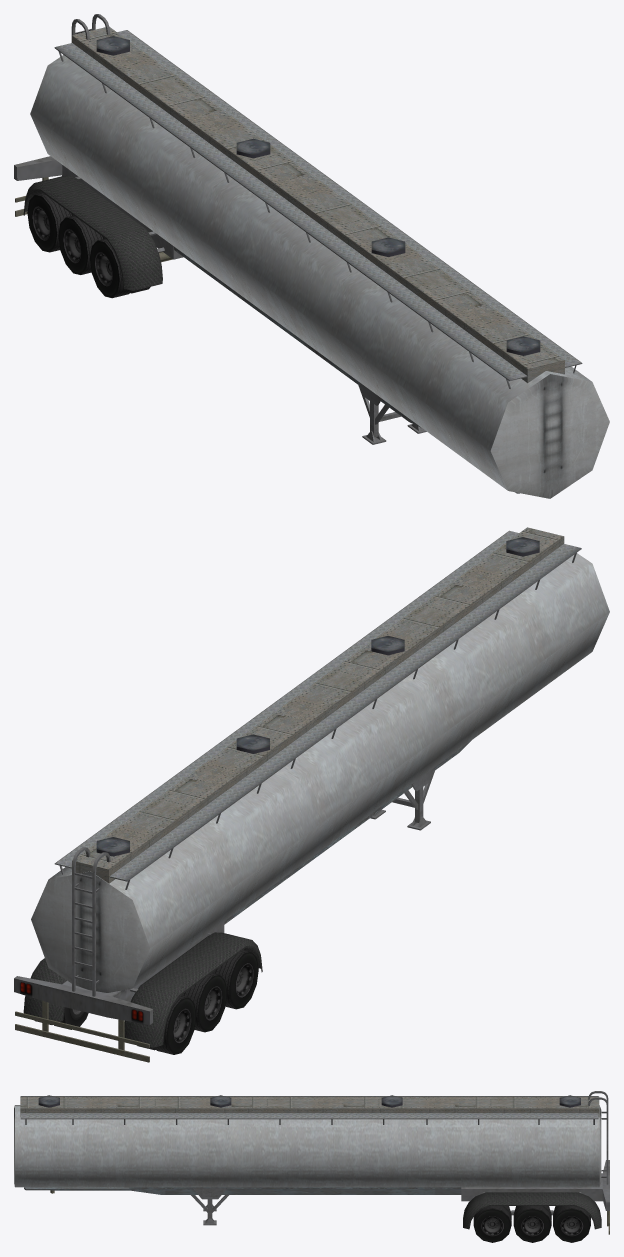
The model's file is Trailer_4.FBX.
3 renders of one model, top to bottom at view 1: azimuth 30°, elevation 25°; view 2: azimuth 150°, elevation 25°; view 3: azimuth 270°, elevation 25°, orthographic. The views are drawn at different scales.
Parts seen in each view (by area): view 1: Trailer 4, Wheel_BR 2, Wheel_BR 1, Wheel_BR 3; view 2: Trailer 4, Wheel_BR 3, Wheel_BR 2, Wheel_BR 1; view 3: Trailer 4, Wheel_BL 2, Wheel_BL 3, Wheel_BL 1.
Boxes of the visible parts, x1=… form: Trailer 4: x1=14, y1=14, x2=609, y2=498; Wheel_BR 2: x1=58, y1=215, x2=104, y2=274; Wheel_BR 1: x1=27, y1=193, x2=73, y2=252; Wheel_BR 3: x1=90, y1=238, x2=150, y2=298; Trailer 4: x1=14, y1=527, x2=609, y2=1062; Wheel_BR 3: x1=212, y1=949, x2=258, y2=1009; Wheel_BR 2: x1=181, y1=973, x2=227, y2=1032; Wheel_BR 1: x1=137, y1=995, x2=196, y2=1054; Trailer 4: x1=14, y1=1091, x2=609, y2=1234; Wheel_BL 2: x1=513, y1=1206, x2=551, y2=1242; Wheel_BL 3: x1=473, y1=1206, x2=511, y2=1242; Wheel_BL 1: x1=553, y1=1206, x2=590, y2=1242.
Bounding box in the file's own units: 82.64 × 112 × 476.
1 material, 1 textured.
